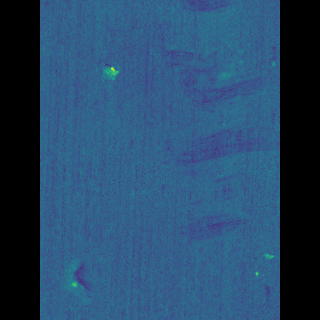Loch: (153, 0, 244, 254)
